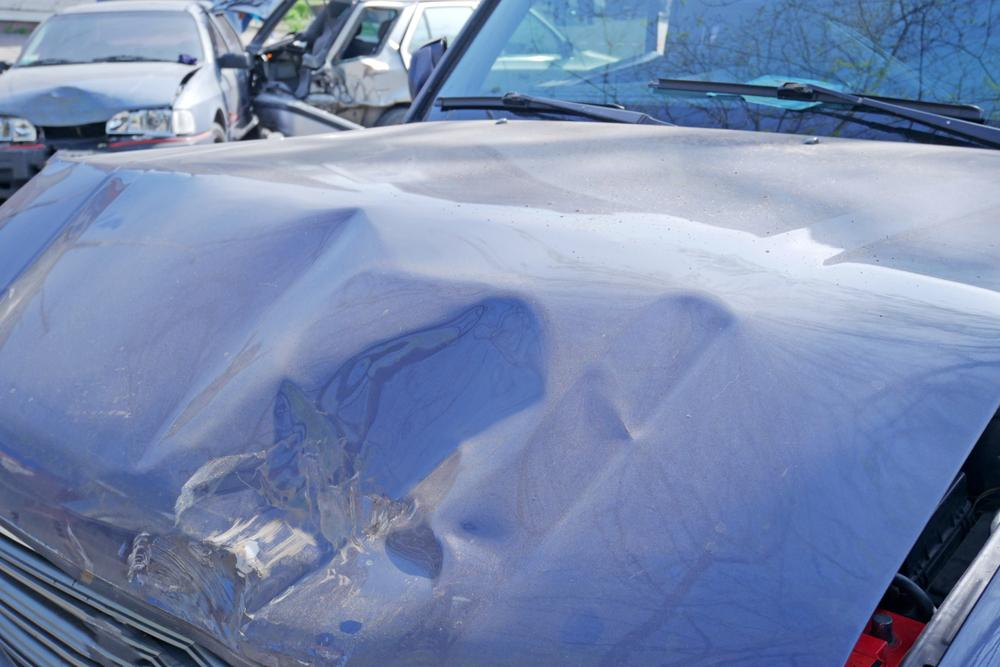dent: (80, 205, 754, 667), (18, 85, 133, 128)
